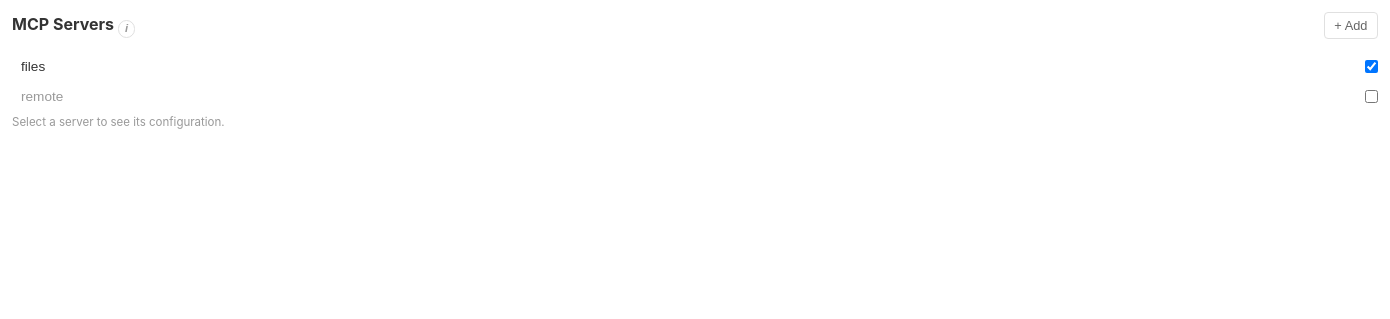
SettingsMcp › shows the configuration read-only when a row body is clicked
The image size is (1390, 319).
Click the button with class "mcp-row-name" showing "files": x=33, y=66 top-left (12, 52), bottom-right (1357, 80)
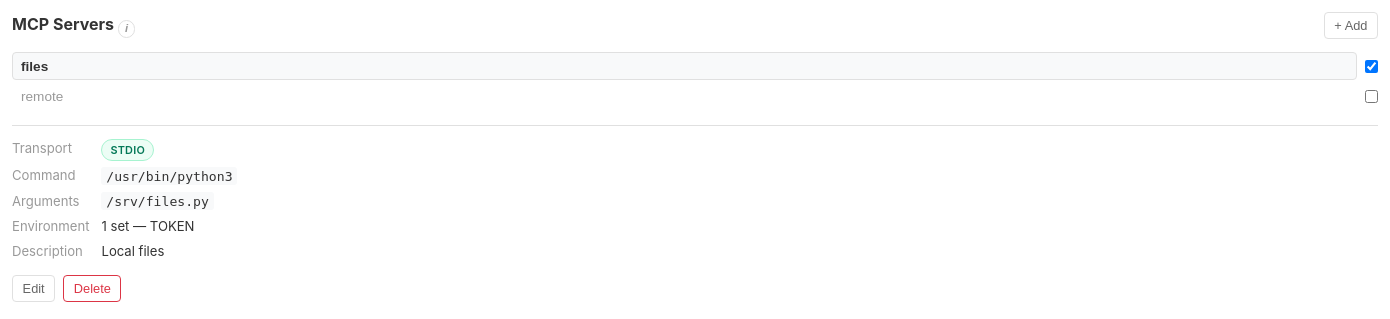
Check: the element with class "mcp-detail" shows "/usr/bin/python3", box top-left (106, 168), bottom-right (233, 183)
